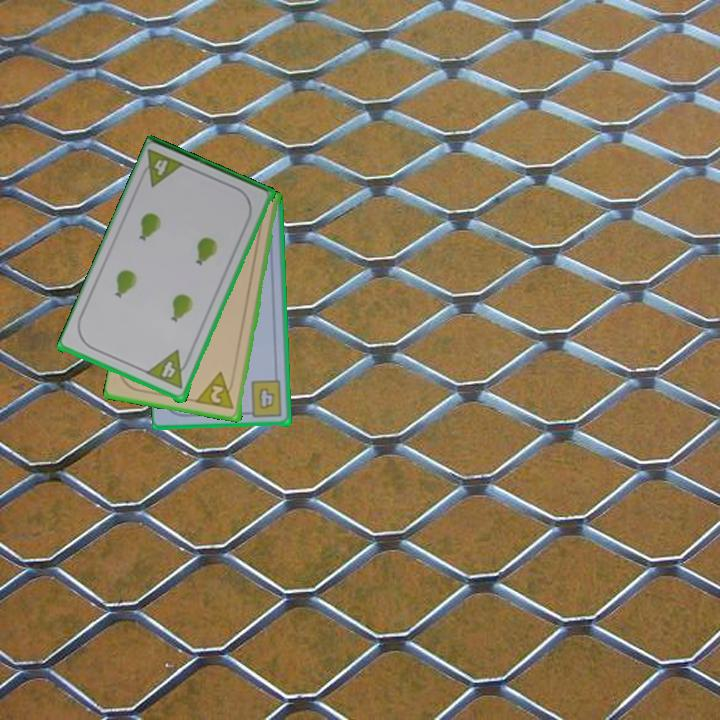2p: (194, 369, 237, 413)
4b: (242, 378, 285, 421)
4p: (135, 146, 189, 191), (144, 347, 194, 392)
